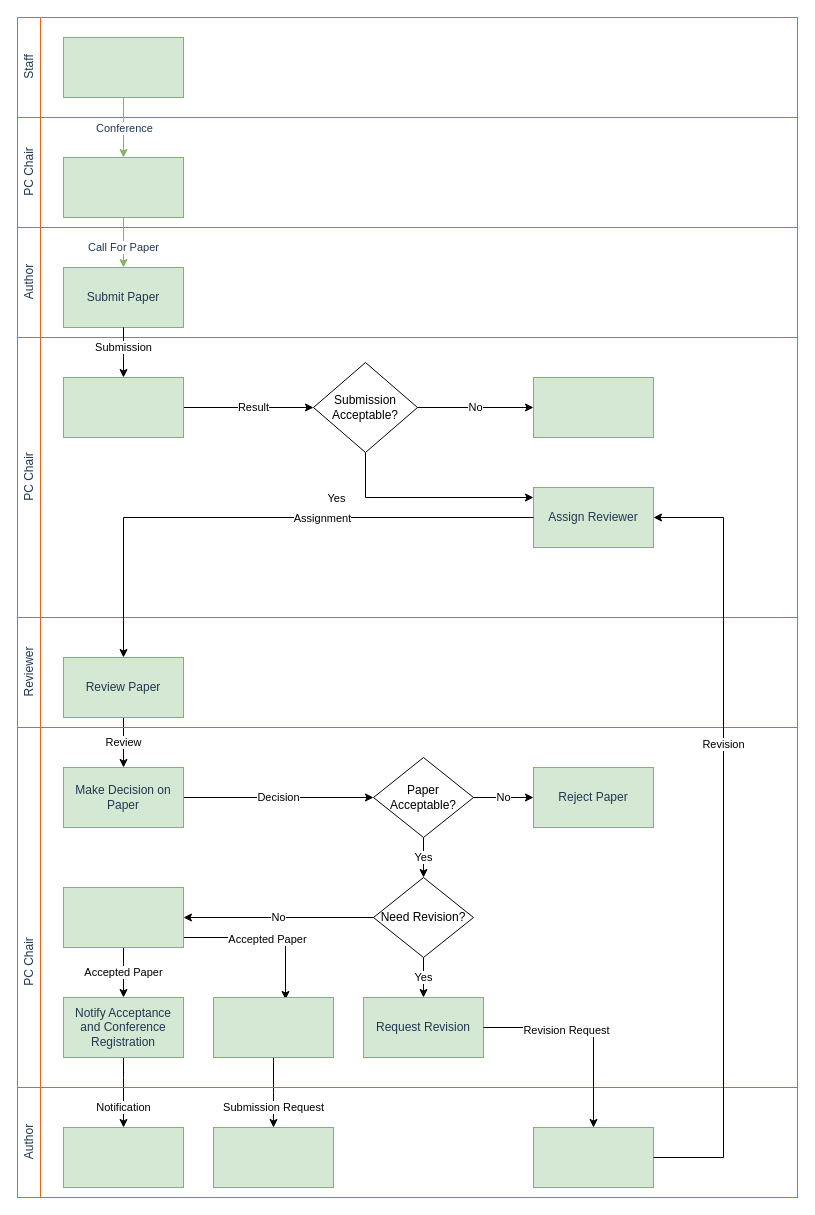
Some shapes in this 815 by 1215 pixel diagram are drawn without their labels. Here are the shapes that lost their labels. From the top down, the centre of each, then its label:
point 123,67: Create Conference
point 123,187: Configure Settings
point 123,407: Check Submission
point 593,407: Reject Submission
point 123,917: Accept Paper
point 273,1027: Request Camera-Ready Submission
point 123,1157: Register for Conference
point 273,1157: Submit Camera-Ready
point 593,1157: Submit Revision
